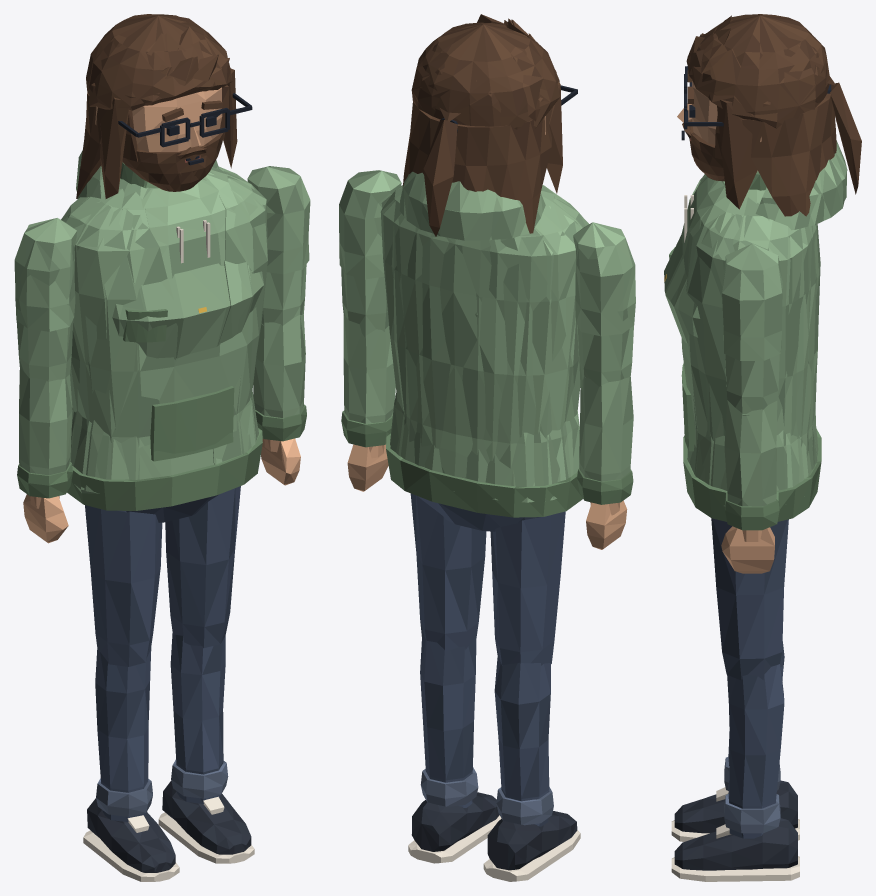
File: character_player.glb
The picture shows the model from 3 angles, left to right: view 1: azimuth 30°, elevation 25°; view 2: azimuth 150°, elevation 25°; view 3: azimuth 270°, elevation 25°; orthographic projection.
Parts seen in each view (by area): view 1: torso_m_hoodie_body, torso_m_overshirt_jacket, torso_f_hoodie_body, thigh_-1, thigh_1, hair_long_cap, shin_-1, shin_1, torso_f_hoodie_hem, torso_f_overshirt_jacket, sleeve_long_fore_-1, sleeve_short_-1 (+24 smaller); view 2: torso_m_overshirt_jacket, torso_m_hoodie_body, hair_long_cap, thigh_-1, hair_long_fall, thigh_1, shin_1, shin_-1, torso_f_hoodie_hem, sleeve_short_-1, sleeve_long_fore_-1, sleeve_long_fore_1 (+21 smaller); view 3: torso_m_overshirt_jacket, torso_m_hoodie_body, hair_long_cap, thigh_1, shin_1, hair_long_fall, sleeve_short_1, sleeve_long_fore_1, shoe_1, hair_short_cap, torso_f_overshirt_jacket, torso_f_hoodie_hem (+14 smaller).
Boxes of the visible parts, x1,y1,x2,y2 form: torso_m_hoodie_body: (61,167,267,448); torso_m_overshirt_jacket: (61,166,267,440); torso_f_hoodie_body: (71,188,256,493); thigh_-1: (85,505,162,666); thigh_1: (165,486,240,648); hair_long_cap: (86,14,230,110); shin_-1: (95,648,151,821); shin_1: (170,633,225,803); torso_f_hoodie_hem: (67,428,262,510); torso_f_overshirt_jacket: (70,259,263,492); sleeve_long_fore_-1: (19,368,72,475); sleeve_short_-1: (14,218,76,331); torso_m_overshirt_jacket: (380,185,588,460); torso_m_hoodie_body: (381,185,588,468); hair_long_cap: (411,22,560,129); thigh_-1: (490,511,565,665); hair_long_fall: (402,101,552,233); thigh_1: (410,493,486,651); shin_1: (420,636,476,807); shin_-1: (494,656,550,826); torso_f_hoodie_hem: (386,433,582,517); sleeve_short_-1: (573,222,635,336); sleeve_long_fore_-1: (579,377,633,481); sleeve_long_fore_1: (343,316,395,423); torso_m_overshirt_jacket: (683,175,820,447); torso_m_hoodie_body: (681,174,819,456); hair_long_cap: (686,14,829,118); thigh_1: (711,518,788,680); shin_1: (727,663,784,838); hair_long_fall: (742,93,836,216); sleeve_short_1: (722,243,782,360); sleeve_long_fore_1: (724,400,777,506); shoe_1: (674,818,797,870); hair_short_cap: (688,14,826,128); torso_f_overshirt_jacket: (665,257,818,506); torso_f_hoodie_hem: (683,428,821,521).
Size of the model in its own units: 0.6425 by 1.79 by 0.3829.
